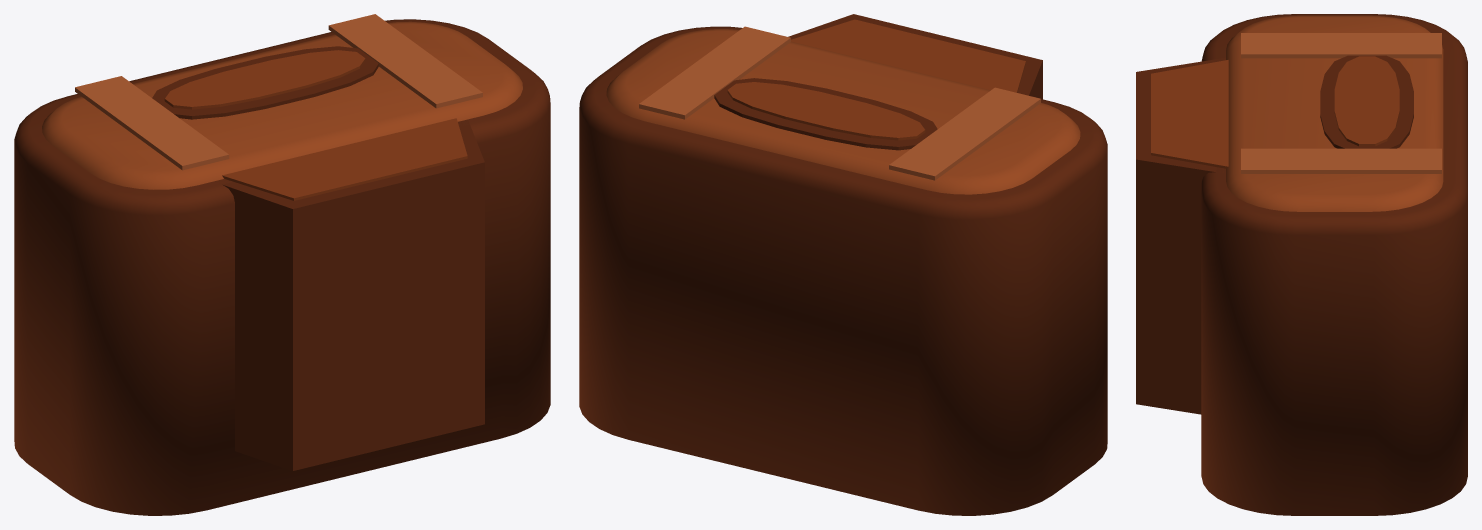
File: bag_padrao_couro_gasto.fbx
3 renders of one model, left to right at view 1: azimuth 30°, elevation 25°; view 2: azimuth 150°, elevation 25°; view 3: azimuth 270°, elevation 25°, orthographic. The views are drawn at different scales.
Parts seen in each view (by area): view 1: bag_padrao_couro_gasto_mochila; view 2: bag_padrao_couro_gasto_mochila; view 3: bag_padrao_couro_gasto_mochila.
Boxes of the visible parts, x1,y1,x2,y2 form: bag_padrao_couro_gasto_mochila: (14, 14, 550, 515); bag_padrao_couro_gasto_mochila: (579, 14, 1107, 515); bag_padrao_couro_gasto_mochila: (1136, 14, 1467, 515).
Size of the model in its own units: 2.8 by 1.9 by 1.84.
1 material, 1 textured.
